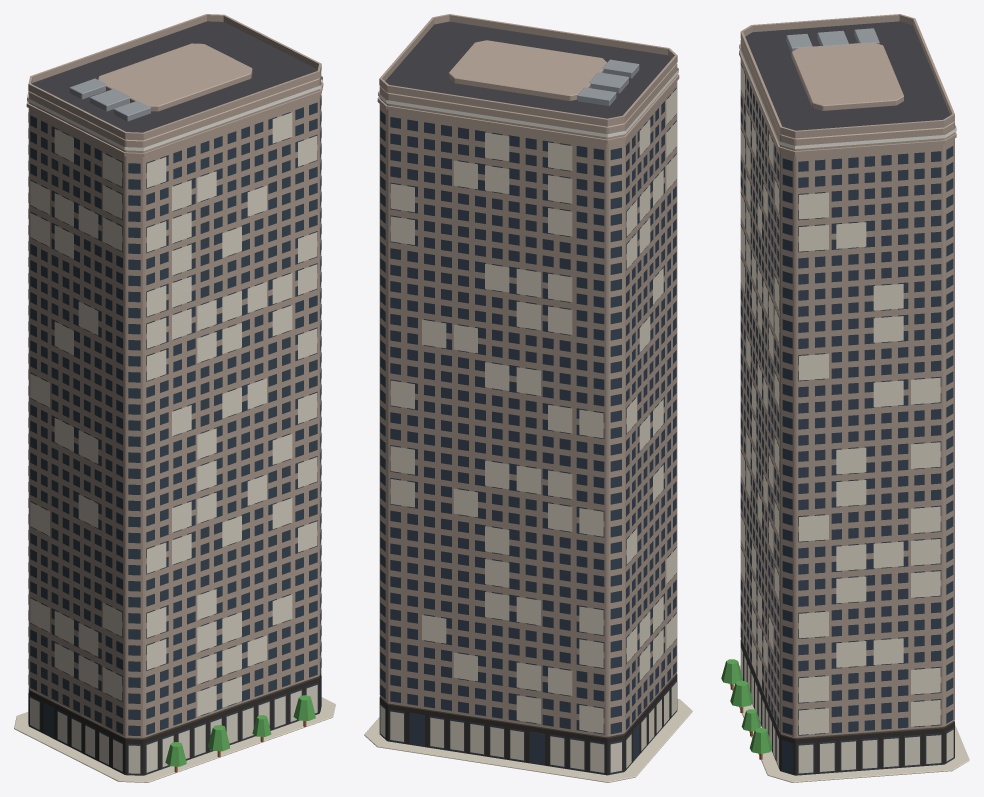
The model's file is 120-kearny-street.glb.
The picture shows the model from 3 angles, left to right: view 1: azimuth 30°, elevation 25°; view 2: azimuth 150°, elevation 25°; view 3: azimuth 270°, elevation 25°; orthographic projection. The views are drawn at different scales.
Visible parts, largest first — view 1: 120-kearny-street_body, 120-kearny-street_night_glow; view 2: 120-kearny-street_body, 120-kearny-street_night_glow; view 3: 120-kearny-street_body, 120-kearny-street_night_glow.
Boxes of the visible parts, x1,y1,x2,y2 form: 120-kearny-street_body: (14, 14, 335, 782); 120-kearny-street_night_glow: (27, 76, 322, 773); 120-kearny-street_body: (364, 14, 692, 782); 120-kearny-street_night_glow: (378, 68, 678, 772); 120-kearny-street_body: (721, 14, 969, 782); 120-kearny-street_night_glow: (739, 44, 956, 773).
Size of the model in its own units: 65.96 by 152 by 53.2.
